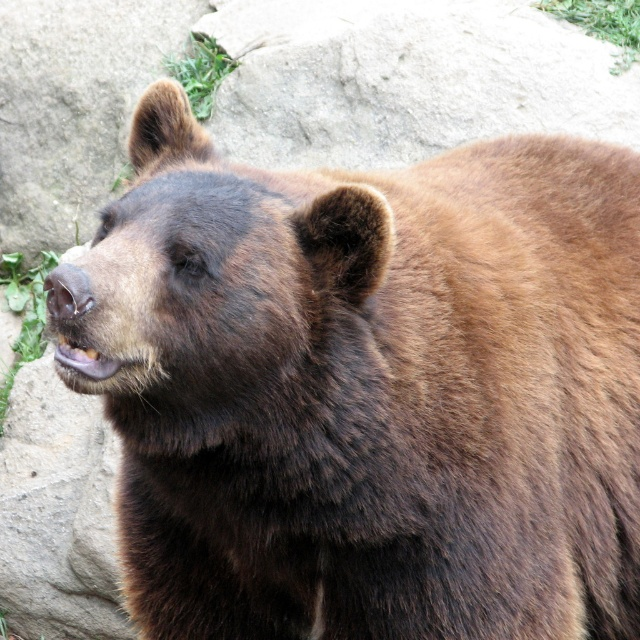Brown bear: (43, 76, 640, 640)
